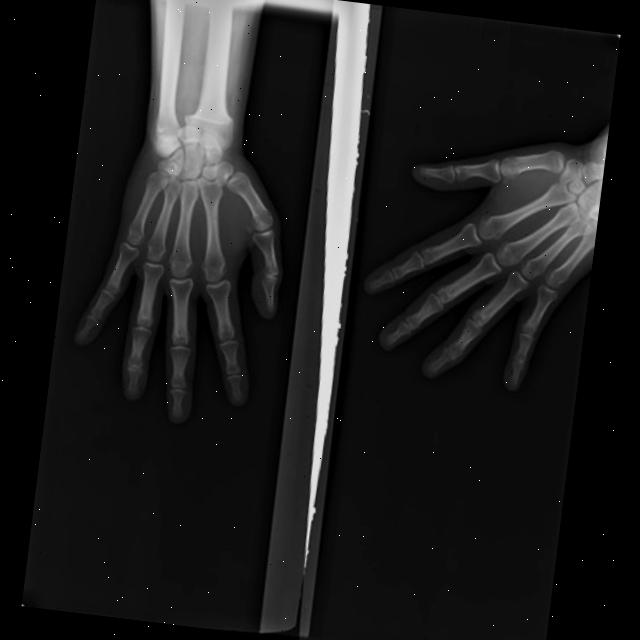Fracture: (176, 105, 236, 143), (146, 113, 183, 148)
